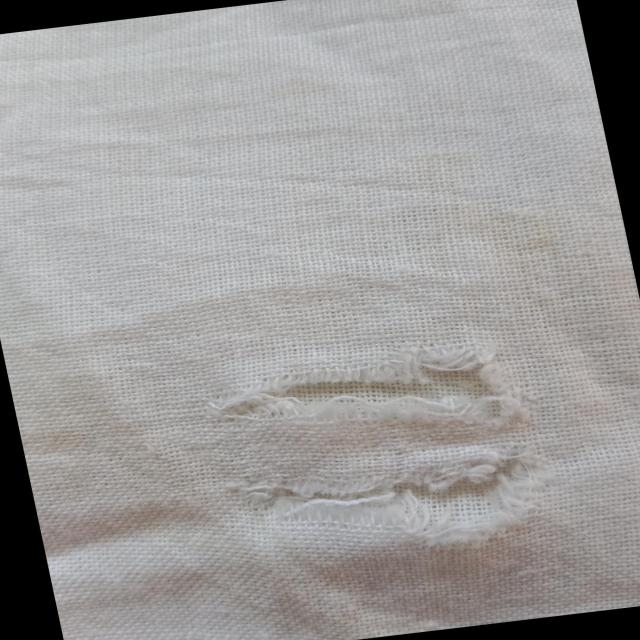cut: (187, 338, 528, 457), (209, 432, 550, 539)
